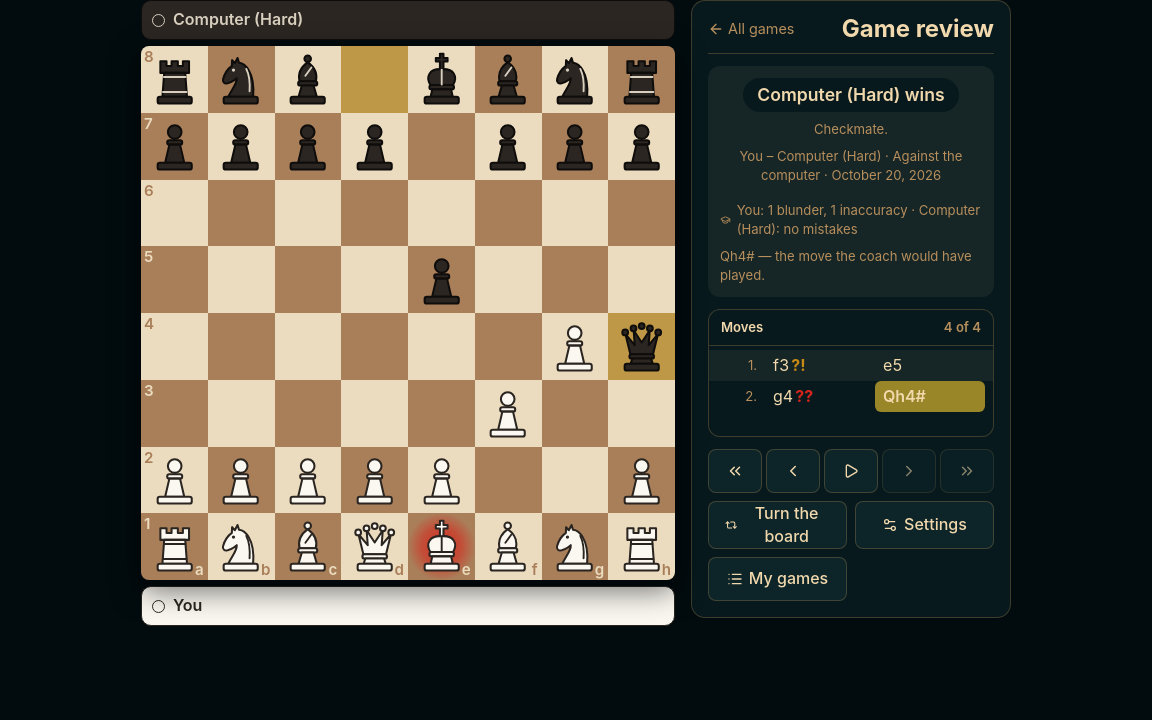
Test: playing a game back › Play runs a review from the start to the end, and Stop holds it where it is
The image size is (1152, 720).
Expected: the text "4 of 4" is shown, [944,318,981,337]
Expected: the text "You: 1 blunder, 1 inaccuracy · Computer (Hard): no mistakes" is shown, [720,201,982,239]
Click the button named "Play".
click(851, 471)  # box [824,449,878,493]
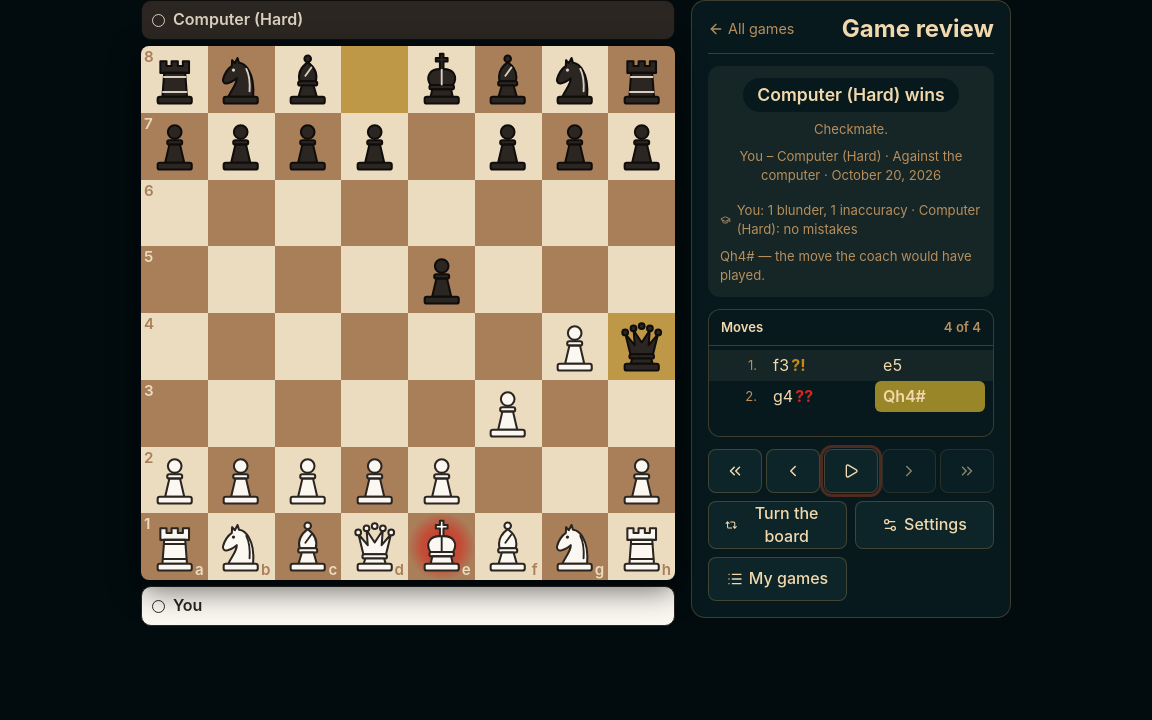
Expected: the text "4 of 4" is shown, [944,318,981,337]
Click the button named "Start".
click(735, 471)  # box [708,449,762,493]
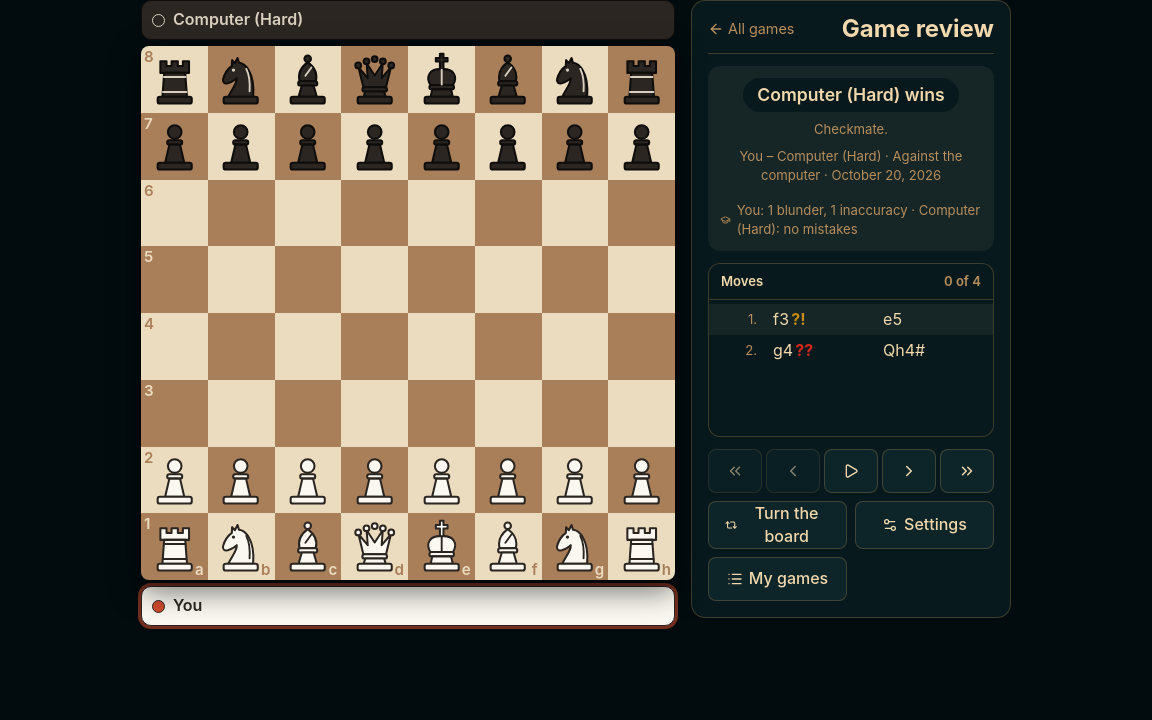
Click the button named "Play".
click(851, 471)  # box [824,449,878,493]
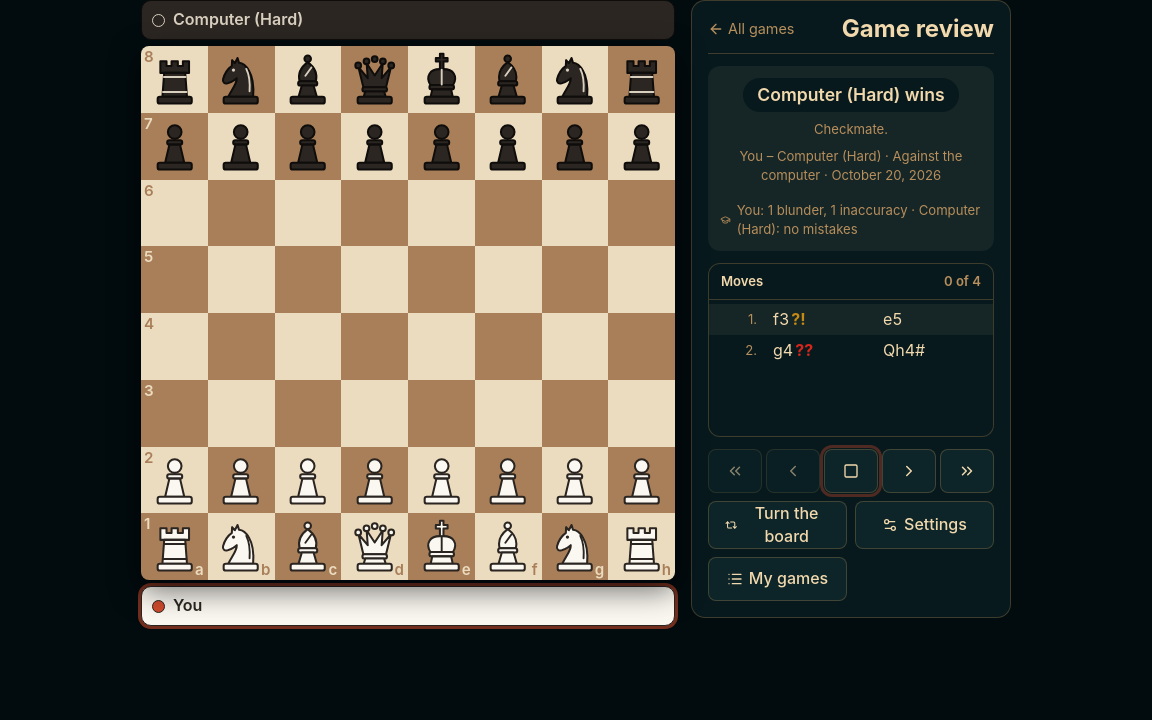
Click the button named "Stop".
click(851, 471)  # box [824,449,878,493]
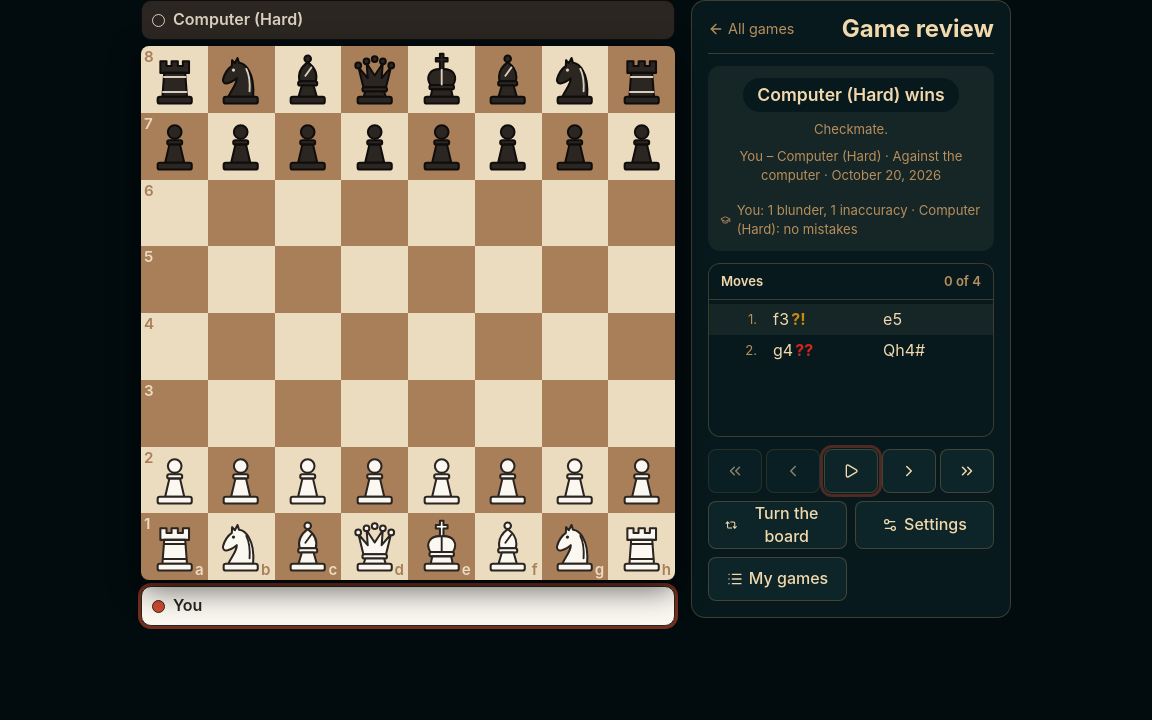
Result: the text "0 of 4" is shown at [944,272,981,291]
Result: the button named "Play" is shown at [824,449,878,493]
